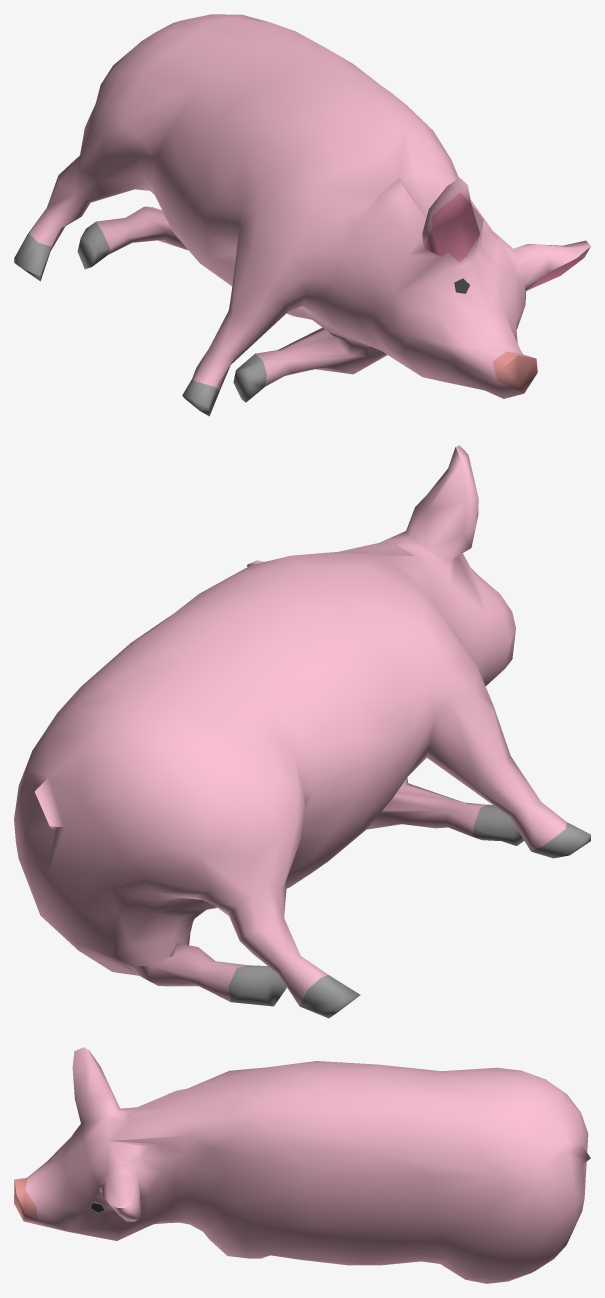
Rendered from pig_001.glb.
The picture shows the model from 3 angles, top to bottom: view 1: azimuth 30°, elevation 25°; view 2: azimuth 150°, elevation 25°; view 3: azimuth 270°, elevation 25°; orthographic projection. The views are drawn at different scales.
Visible parts, largest first — view 1: pig_001; view 2: pig_001; view 3: pig_001.
Part boxes in pixels (x1,y1,x2,y2): pig_001: [14, 14, 590, 416]; pig_001: [14, 445, 590, 1018]; pig_001: [14, 1047, 590, 1283].
Size of the model in its own units: 0.978 by 0.7325 by 1.69.
Materials: 1 (1 with a texture image).
